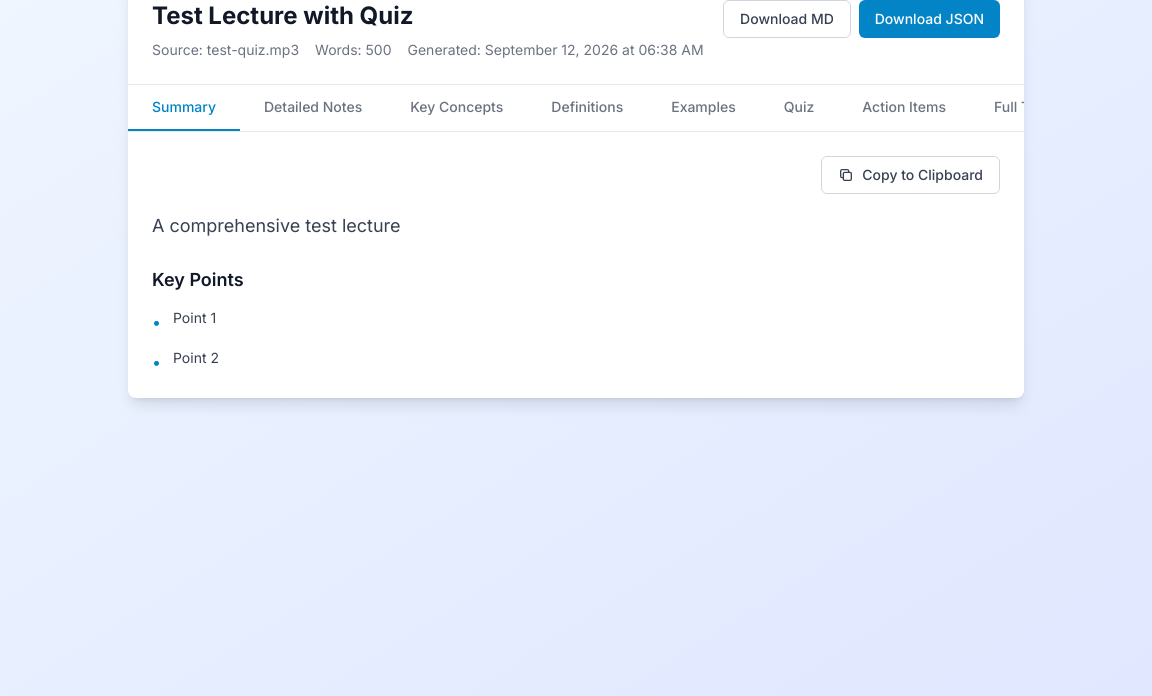
Test: Quiz Feature › Answer Selection › should disable submit button when not all questions are answered
Click the button "Quiz" at (799, 108), box 760,85 -> 838,131
(page scrolled)
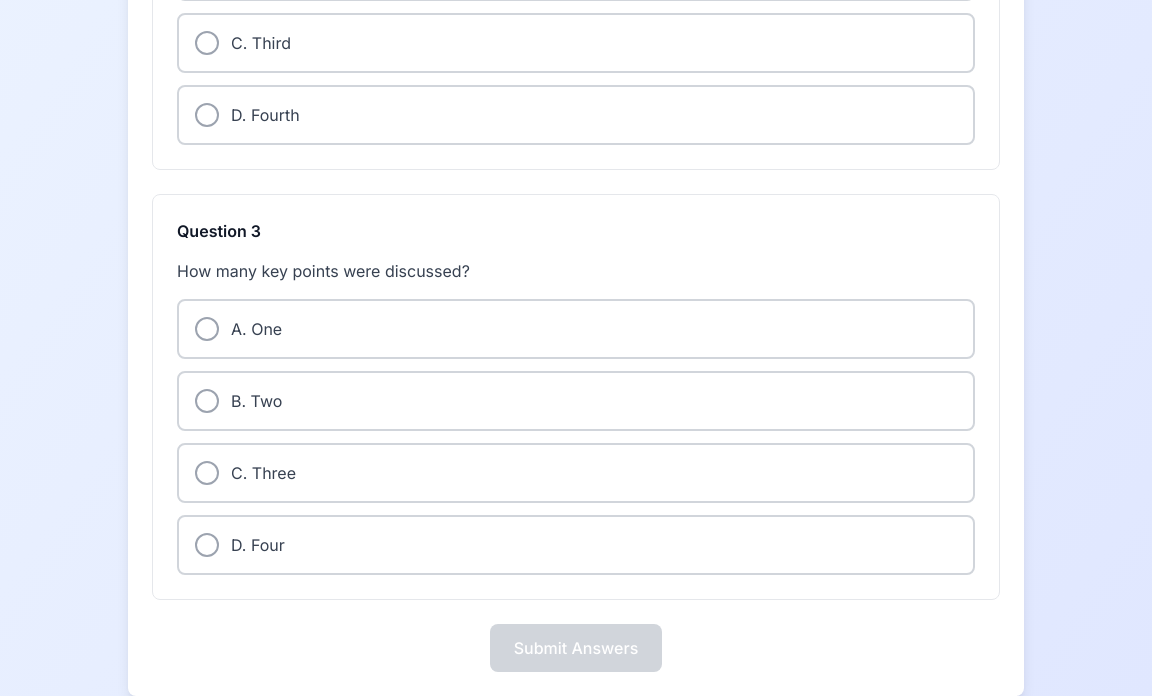
Now the button "Submit Answers" is disabled, box 490,624 -> 662,672
